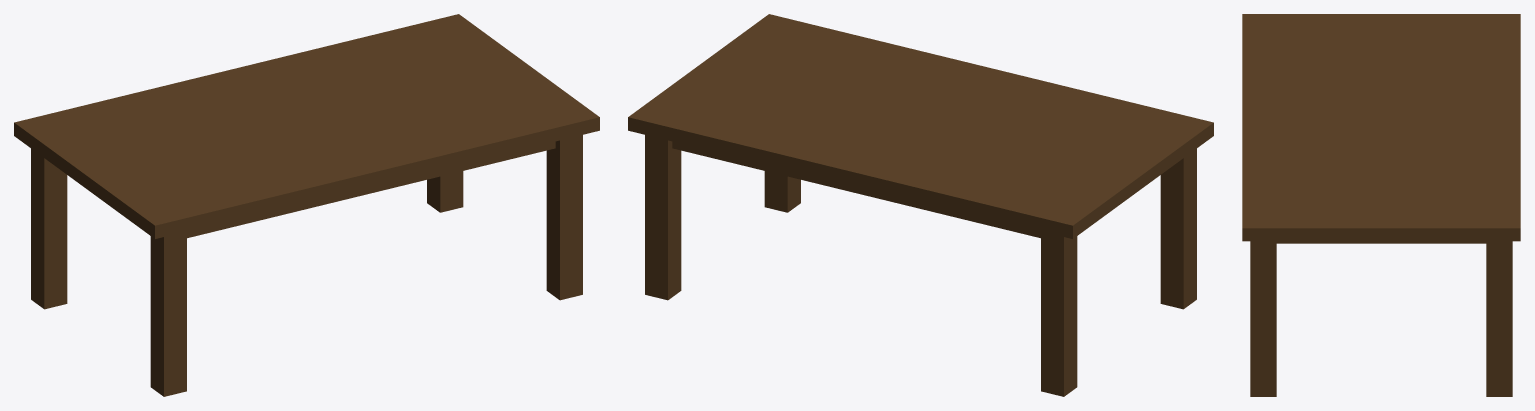
File: table.fbx
The picture shows the model from 3 angles, left to right: view 1: azimuth 30°, elevation 25°; view 2: azimuth 150°, elevation 25°; view 3: azimuth 270°, elevation 25°; orthographic projection.
Visible parts, largest first — view 1: Plane; view 2: Plane; view 3: Plane.
Part boxes in pixels (x1=…): Plane: x1=14, y1=14, x2=599, y2=396; Plane: x1=628, y1=14, x2=1213, y2=396; Plane: x1=1242, y1=14, x2=1520, y2=396.
Size of the model in its own units: 762 by 291 by 419.
